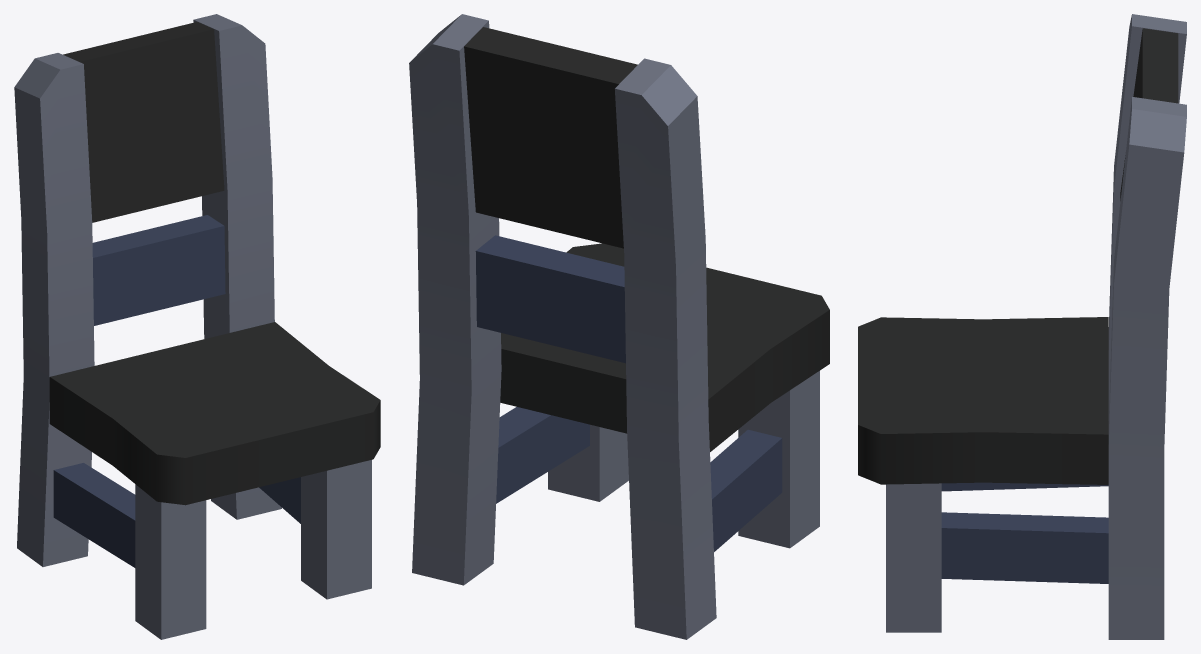
File: Chair.fbx
3 renders of one model, left to right at view 1: azimuth 30°, elevation 25°; view 2: azimuth 150°, elevation 25°; view 3: azimuth 270°, elevation 25°, orthographic. The views are drawn at different scales.
Visible parts, largest first — view 1: Chair; view 2: Chair; view 3: Chair.
Part boxes in pixels (left/top/right/bottom): Chair: left=14, top=14, right=380, bottom=639; Chair: left=409, top=14, right=829, bottom=639; Chair: left=858, top=14, right=1186, bottom=639.
Bounding box in the file's own units: 0.5305 × 1.02 × 0.5909.
